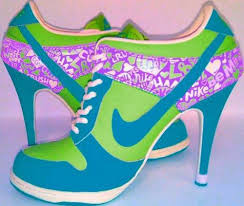nike: (110, 34, 222, 149)
